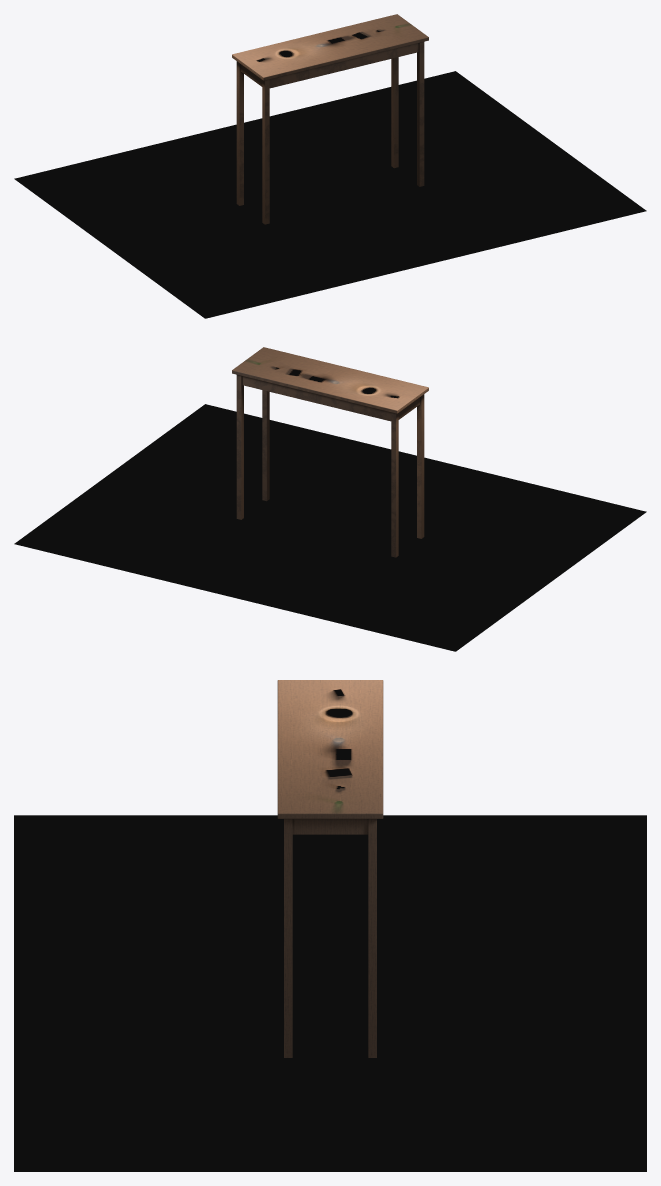
Rendered from 812_lime.glb.
3 renders of one model, top to bottom at view 1: azimuth 30°, elevation 25°; view 2: azimuth 150°, elevation 25°; view 3: azimuth 270°, elevation 25°, orthographic. The views are drawn at different scales.
Visible parts, largest first — view 1: Shadow, Table; view 2: Shadow, Table; view 3: Shadow, Table.
Part boxes in pixels (x1,y1,x2,y2): Shadow: (14, 71, 646, 318); Table: (232, 14, 428, 224); Shadow: (14, 404, 646, 651); Table: (232, 347, 428, 557); Shadow: (14, 815, 646, 1171); Table: (277, 680, 383, 1057).
Bounding box in the file's own units: 9.6 × 3.1 × 7.2.
2 materials, 2 textured.
